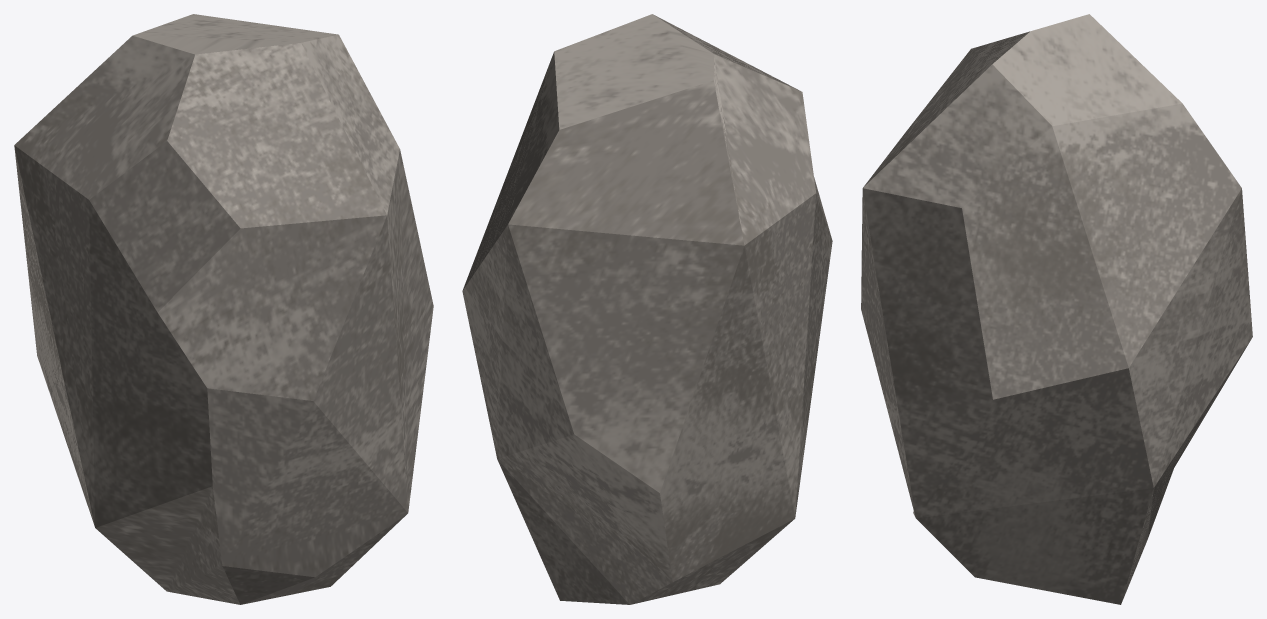
File: Piedra6.fbx
3 views of the same model, side by side, from view 1: azimuth 30°, elevation 25°; view 2: azimuth 150°, elevation 25°; view 3: azimuth 270°, elevation 25° (orthographic). The views are drawn at different scales.
Parts seen in each view (by area): view 1: Piedra 5; view 2: Piedra 5; view 3: Piedra 5.
Part boxes in pixels (box(x1,y1,x2,y2)): Piedra 5: box(14, 14, 433, 604); Piedra 5: box(462, 14, 832, 604); Piedra 5: box(861, 14, 1252, 604).
Size of the model in its own units: 175 by 294 by 197.
